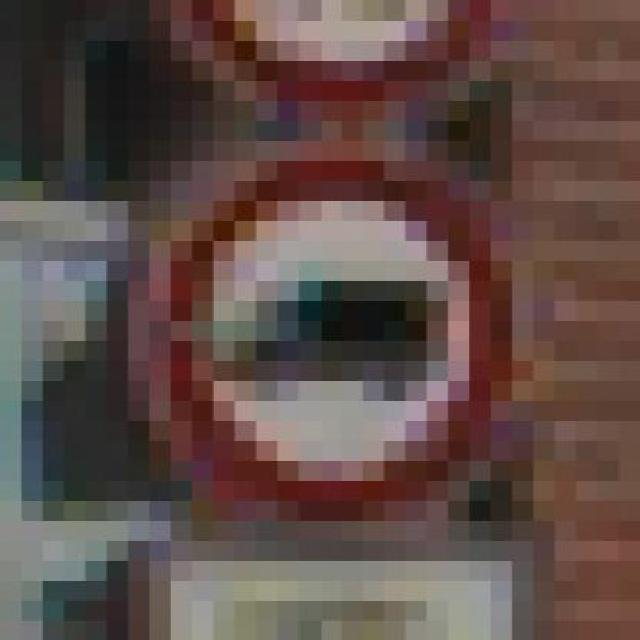Truck traffic is prohibited: (106, 106, 534, 586)
